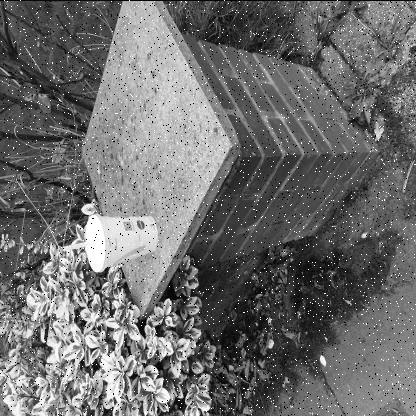cardboard: (85, 212, 159, 272)
plastic: (62, 237, 98, 252)
